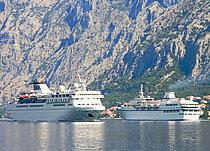Ship: (3, 74, 110, 126), (118, 83, 204, 125)
